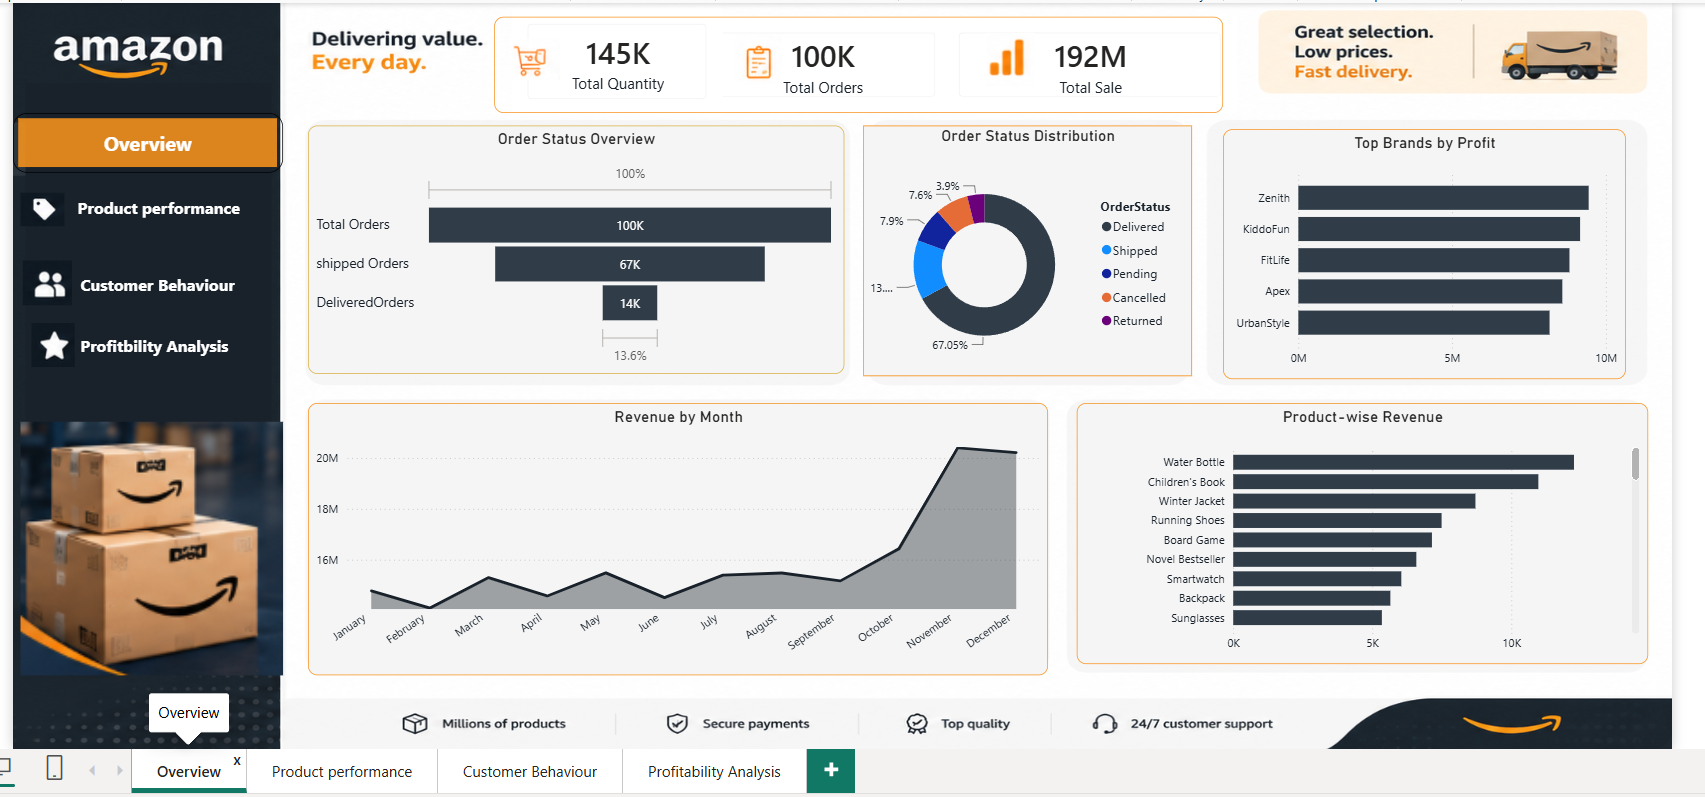

What the dashboard file says about the page in this screenshot:
{"tool":"powerbi","page":{"name":"Overview","canvas":[1780,800],"ordinal":0},"visuals":[{"type":"cardVisual","fields":{"Data":["Measure.Total Units Sold"]},"box":[997.7,14.6,315.3,103.5],"z":0},{"type":"cardVisual","fields":{"Data":["Measure.Total Orders"]},"box":[729.3,14.6,277.3,103.5],"z":1000},{"type":"cardVisual","fields":{"Data":["Measure.Total Quantity"]},"box":[535.2,4.9,226.2,115.9],"z":2000},{"type":"stackedAreaChart","title":"Revenue by Month","fields":{"Category":["Calendar.Month"],"Y":["Measure.Product Revenue"]},"box":[316.8,429.4,793.8,292],"z":3000},{"type":"funnel","title":"Order Status Overview","fields":{"Y":["Measure.Total Orders","amzon sale dataset.DeliveredOrders","amzon sale dataset.Delivered Orders"]},"box":[316.4,131.4,575.1,266.8],"z":4000},{"type":"barChart","title":"Top Brands by Profit","fields":{"Category":["amzon sale dataset.Brand"],"Y":["Measure.Total Profit"]},"box":[1297.6,135.5,431.8,267.6],"z":5000},{"type":"shape","box":[13.4,85.8,264.1,429],"z":6000},{"type":"actionButton","box":[0,118,289.5,64.3],"z":7000},{"type":"actionButton","box":[55,182.3,202.8,73.1],"z":8000},{"type":"actionButton","box":[68.4,258.7,173.6,84.4],"z":9000},{"type":"actionButton","box":[55,324.4,193.1,86.9],"z":10000},{"type":"image","box":[8,193,46.9,56.6],"z":11000},{"type":"image","box":[8,276.1,57.9,48.3],"z":12000},{"type":"image","box":[13.4,343.2,59.3,46.9],"z":13000},{"type":"donutChart","title":"Order Status Distribution","fields":{"Y":["Measure.Total Orders"],"Category":["amzon sale dataset.OrderStatus"]},"box":[912.1,131.7,353,269.1],"z":15000},{"type":"image","box":[522.3,37.2,70.4,45.5],"z":16000},{"type":"image","box":[997.7,32.3,143.5,56.6],"z":17000},{"type":"actionButton","box":[516.1,14.7,781.5,103.2],"z":18000},{"type":"image","box":[761.6,34,75.9,53.8],"z":19000},{"type":"image","box":[8,449.1,281.5,272.1],"z":20000},{"type":"clusteredBarChart","title":"Product-wise Revenue","fields":{"Category":["amzon sale dataset.ProductName"],"Y":["Measure.Total Quantity"]},"box":[1140.8,429,612.6,280.2],"z":21000}]}

Visuals, with their boxes on the page's 1780x800 design canvas (x1, y1, x2, y2). These are canvas units, not pixel positions in the 1705x797 screenshot, which may show the page scaled, cropped or inside an application window:
cardVisual - Measure.Total Units Sold: crop(998, 15, 1313, 118)
cardVisual - Measure.Total Orders: crop(729, 15, 1007, 118)
cardVisual - Measure.Total Quantity: crop(535, 5, 761, 121)
"Revenue by Month" stackedAreaChart: crop(317, 429, 1111, 721)
"Order Status Overview" funnel: crop(316, 131, 892, 398)
"Top Brands by Profit" barChart: crop(1298, 136, 1729, 403)
shape: crop(13, 86, 278, 515)
actionButton: crop(0, 118, 290, 182)
actionButton: crop(55, 182, 258, 255)
actionButton: crop(68, 259, 242, 343)
actionButton: crop(55, 324, 248, 411)
image: crop(8, 193, 55, 250)
image: crop(8, 276, 66, 324)
image: crop(13, 343, 73, 390)
"Order Status Distribution" donutChart: crop(912, 132, 1265, 401)
image: crop(522, 37, 593, 83)
image: crop(998, 32, 1141, 89)
actionButton: crop(516, 15, 1298, 118)
image: crop(762, 34, 838, 88)
image: crop(8, 449, 290, 721)
"Product-wise Revenue" clusteredBarChart: crop(1141, 429, 1753, 709)
